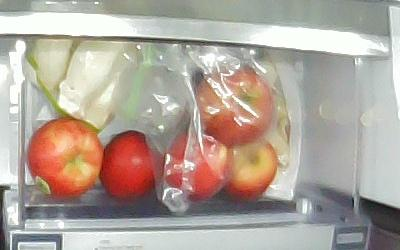apple: (25, 116, 104, 199), (97, 128, 164, 201), (221, 134, 278, 201)
apple_vinyl: (192, 62, 274, 147), (157, 124, 229, 202)
